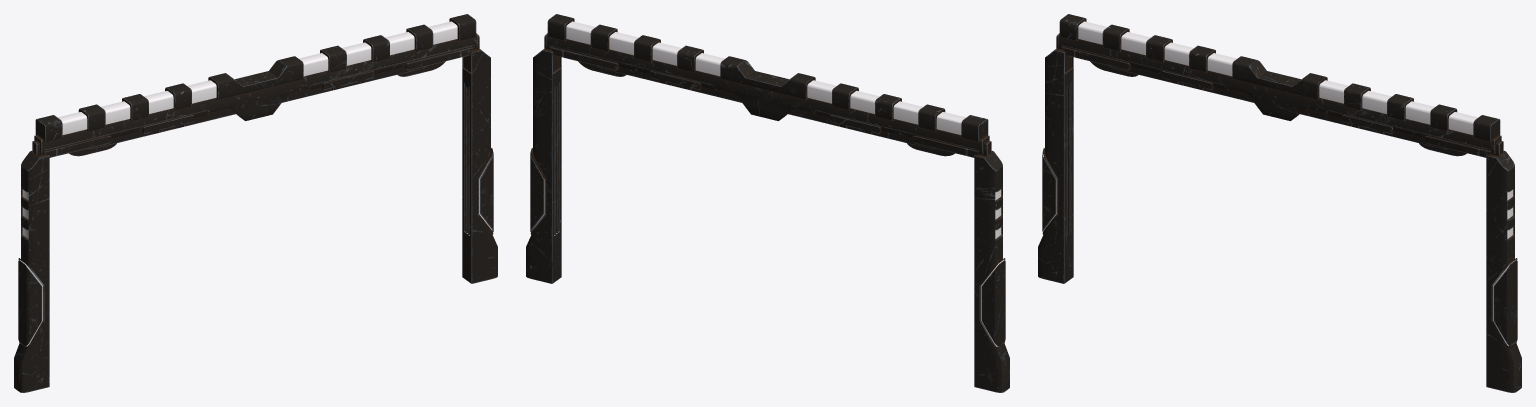
The model's file is Arche Signalétique.fbx.
3 renders of one model, left to right at view 1: azimuth 30°, elevation 25°; view 2: azimuth 150°, elevation 25°; view 3: azimuth 330°, elevation 25°, orthographic.
Visible parts, largest first — view 1: ARCHE; view 2: ARCHE; view 3: ARCHE.
Part boxes in pixels (bbox=[...]): ARCHE: bbox=[14, 14, 497, 392]; ARCHE: bbox=[526, 14, 1009, 392]; ARCHE: bbox=[1038, 14, 1521, 392].
Bounding box in the file's own units: 12901 × 6782 × 502.
